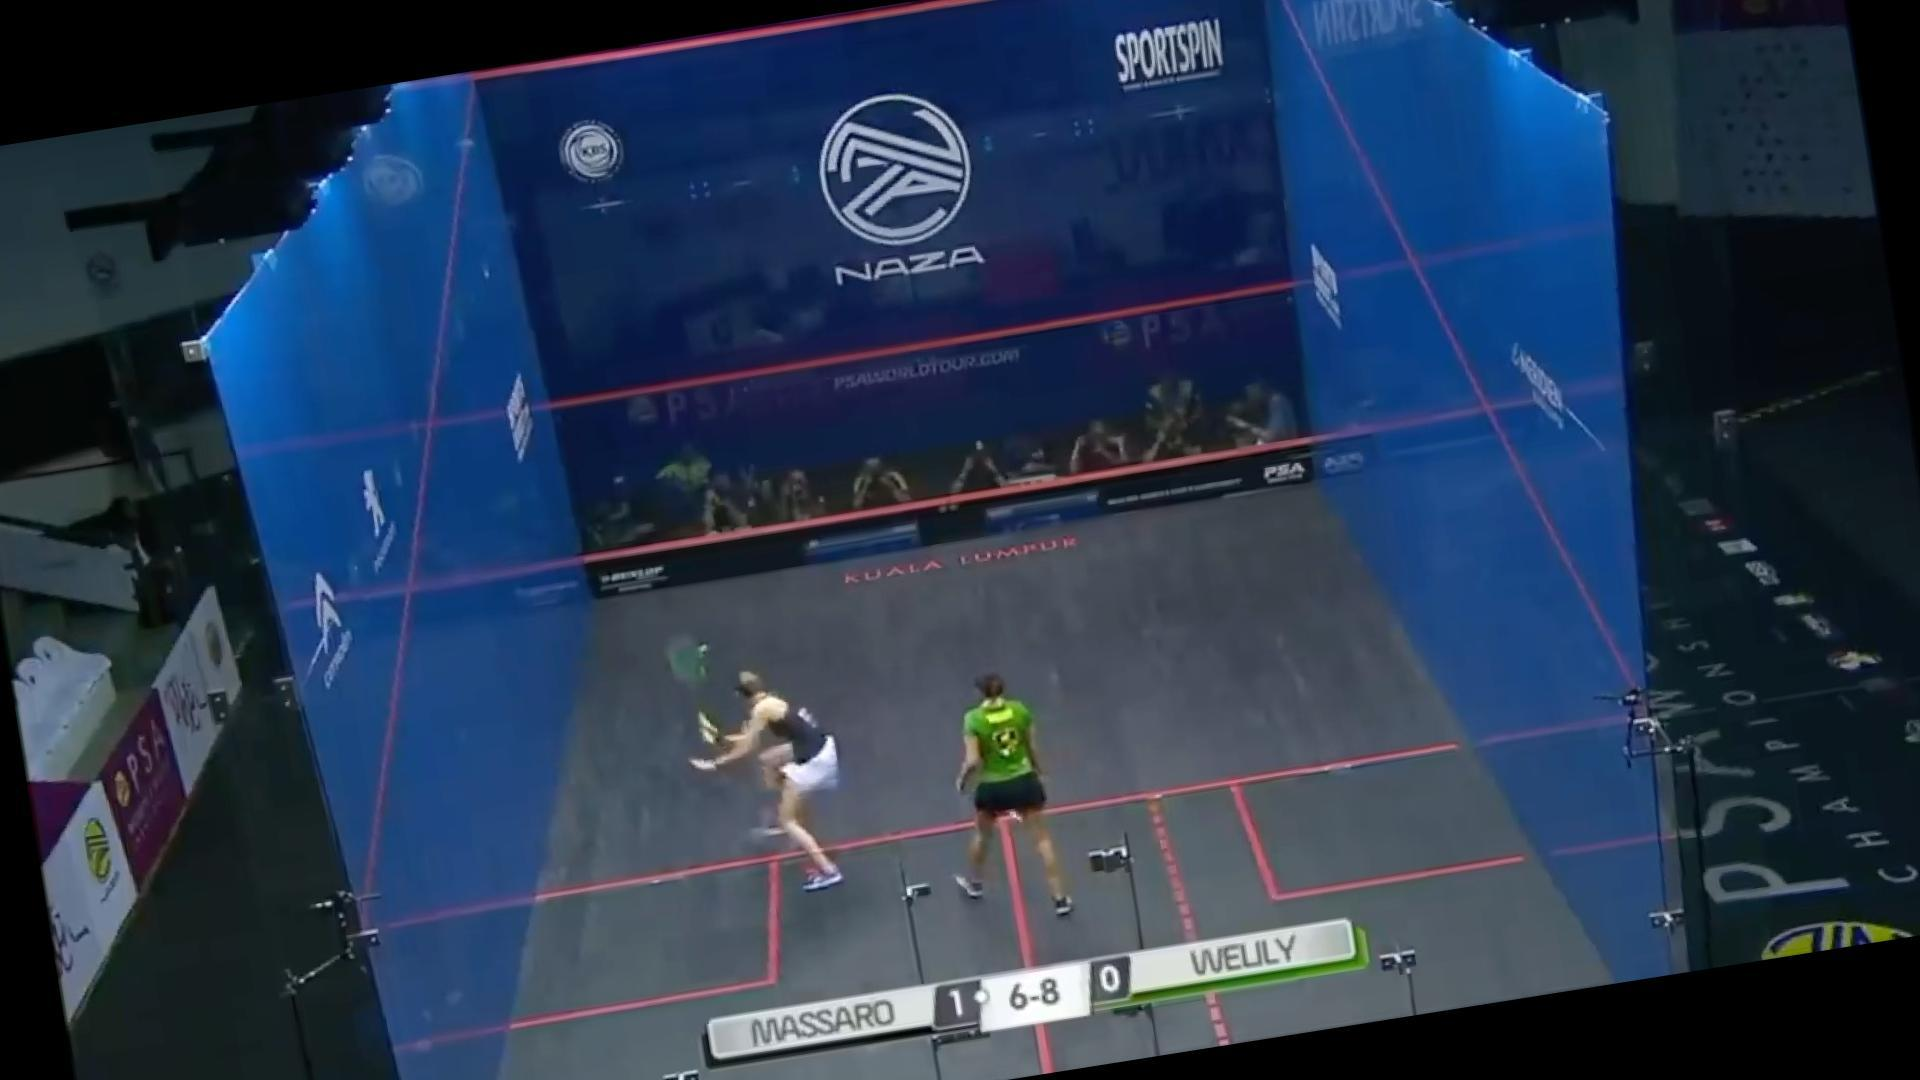Squash-Ball: (688, 626, 724, 673)
